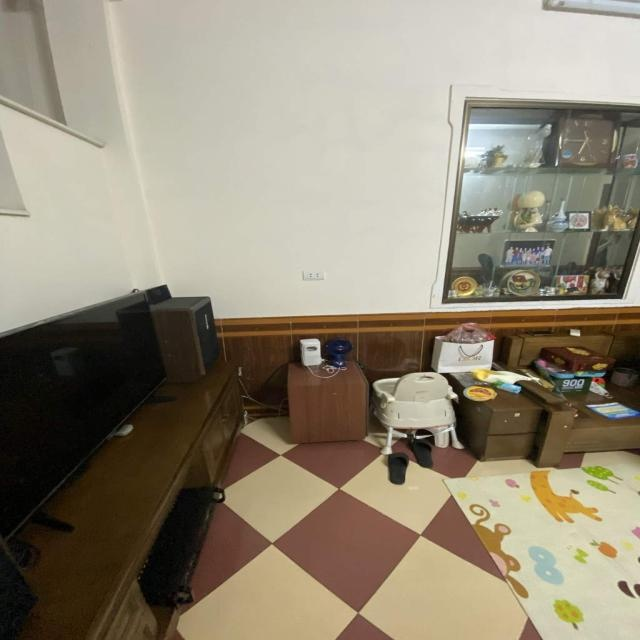outlet: (302, 270, 325, 281)
